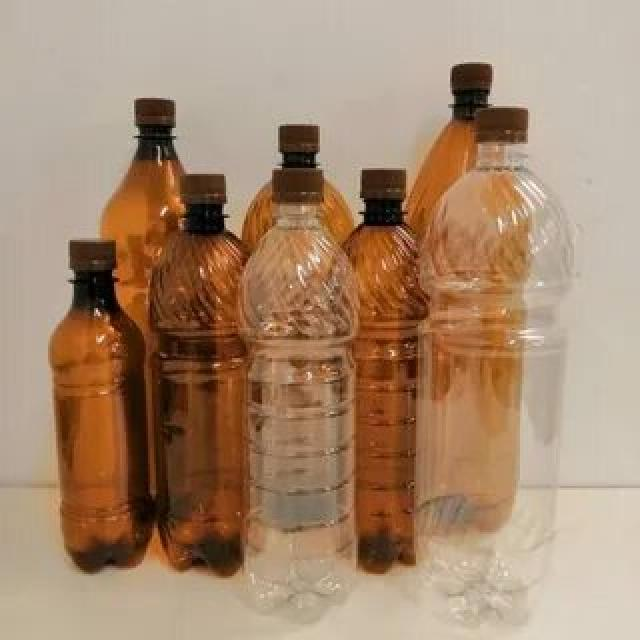brown: (154, 213, 238, 575), (46, 272, 146, 572), (348, 200, 424, 573), (105, 128, 177, 248)
